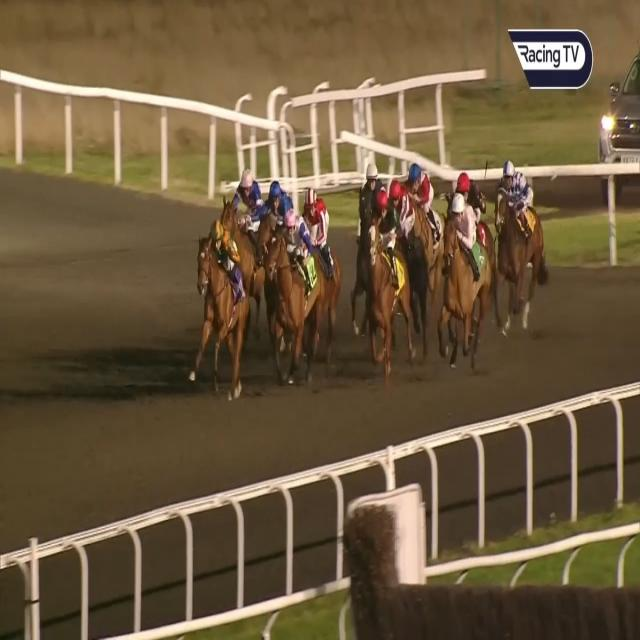horses-racing: (191, 215, 250, 387), (495, 158, 546, 316), (439, 194, 489, 347), (298, 187, 344, 329), (366, 186, 402, 358), (278, 204, 319, 347), (260, 172, 298, 283), (226, 161, 266, 263), (382, 172, 423, 244), (406, 159, 438, 234), (456, 173, 496, 231), (364, 158, 386, 218)
